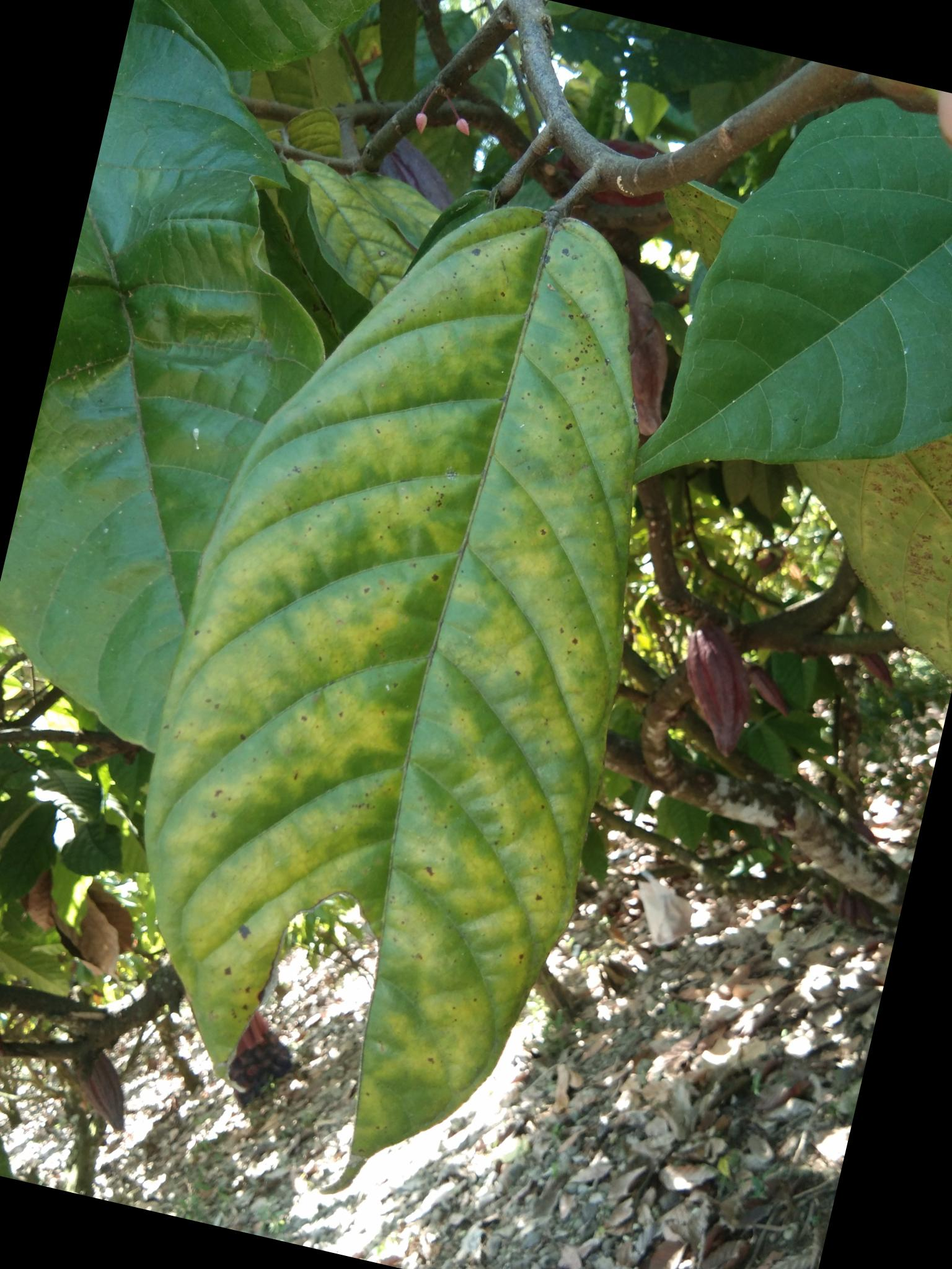Fosforo: (145, 218, 633, 1188)
